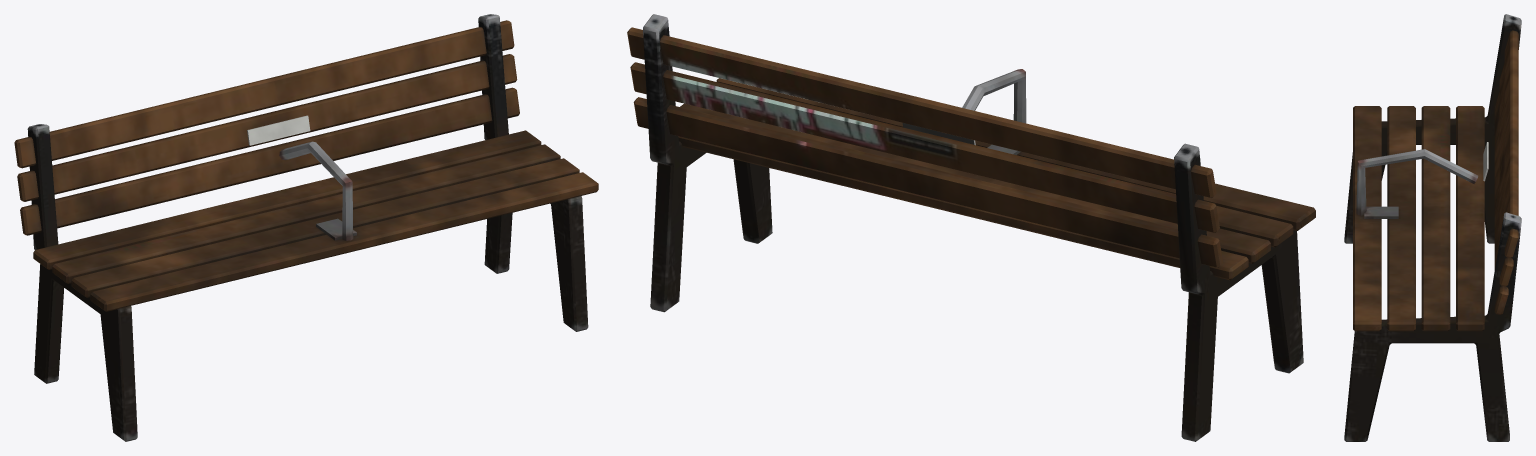
The model's file is bench.glb.
3 views of the same model, side by side, from view 1: azimuth 30°, elevation 25°; view 2: azimuth 150°, elevation 25°; view 3: azimuth 270°, elevation 25° (orthographic). The views are drawn at different scales.
Visible parts, largest first — view 1: bench; view 2: bench; view 3: bench.
Boxes of the visible parts, x1,y1,x2,y2 form: bench: [14, 14, 598, 441]; bench: [627, 14, 1315, 441]; bench: [1344, 14, 1521, 441].
Size of what is drawn, in the model's own units: 1.8 by 0.8681 by 0.6189.
1 material, 1 textured.
